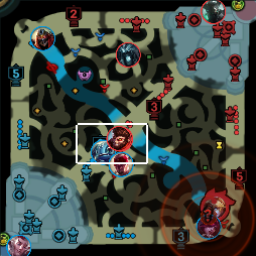ezreal: (204, 194, 228, 220)
fizz: (91, 139, 114, 163)
karthus: (115, 41, 139, 66)
leesin: (109, 152, 133, 176)
monkeyking: (105, 125, 129, 150)
mordekaiser: (200, 1, 226, 23)
rakan: (6, 233, 31, 256)
xayah: (195, 213, 221, 238)
zed: (29, 25, 54, 50)
